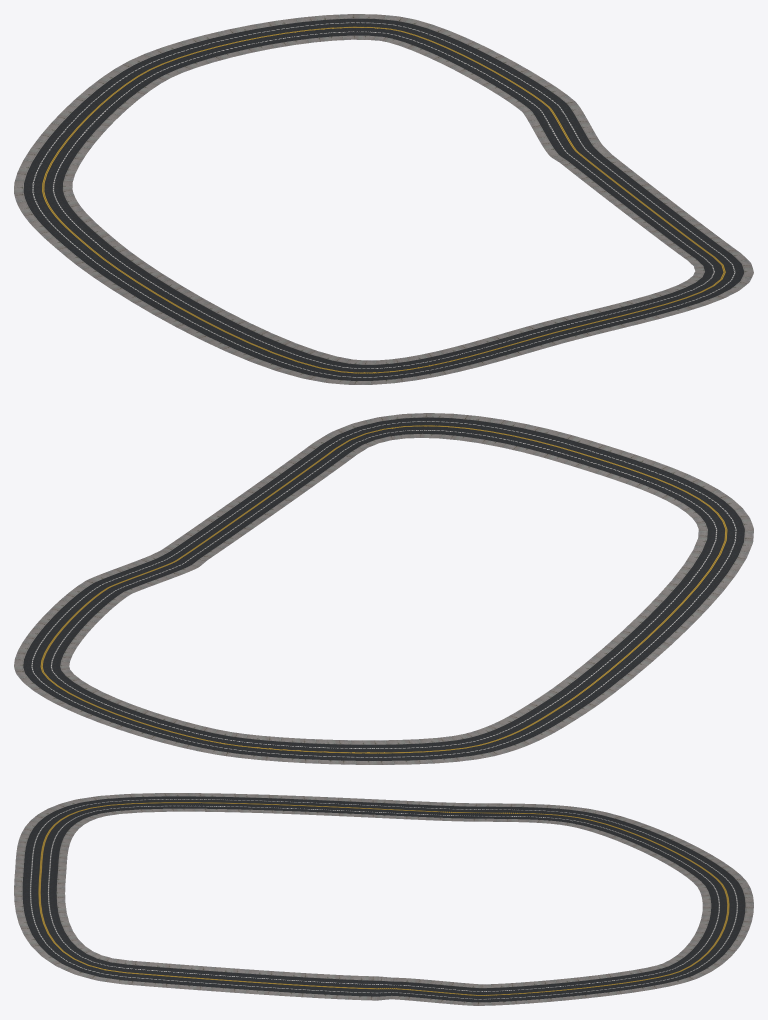
File: racetrack.obj
3 renders of one model, top to bottom at view 1: azimuth 30°, elevation 25°; view 2: azimuth 150°, elevation 25°; view 3: azimuth 270°, elevation 25°, orthographic. The views are drawn at different scales.
Visible parts, largest first — view 1: ROAD_TILE_Plane.001; view 2: ROAD_TILE_Plane.001; view 3: ROAD_TILE_Plane.001.
Part boxes in pixels (<box>): ROAD_TILE_Plane.001: <box>14,14,753,384</box>; ROAD_TILE_Plane.001: <box>14,413,753,764</box>; ROAD_TILE_Plane.001: <box>14,793,753,1005</box>.
Size of the model in its own units: 309 by 23.84 by 434.
Materials: 2 (2 with a texture image).
